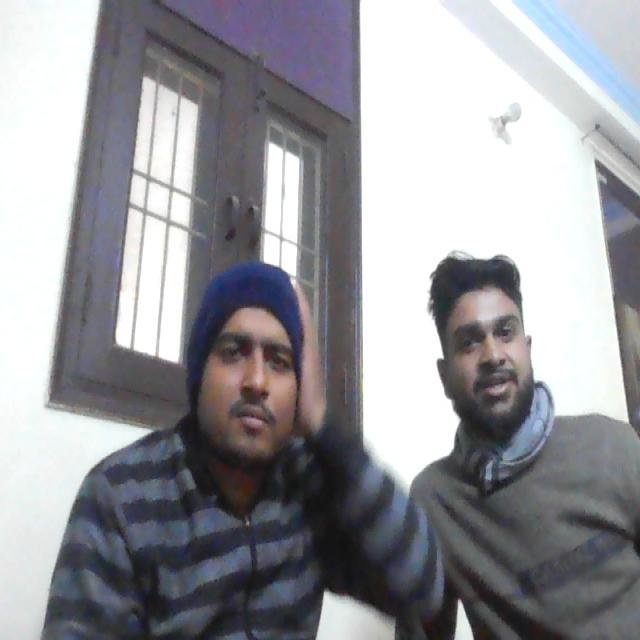real: (200, 275, 306, 476), (433, 241, 536, 436)
